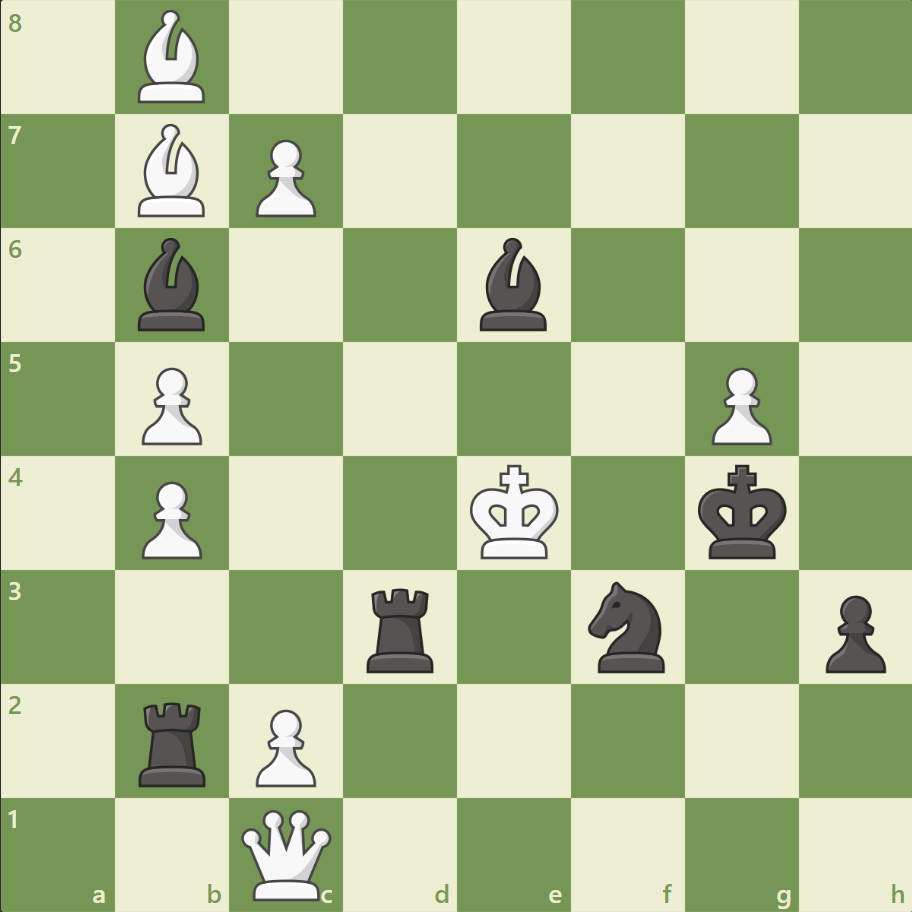B: (131, 6, 215, 109), (131, 120, 215, 222)
K: (465, 458, 565, 566)
P: (247, 132, 322, 223), (133, 359, 208, 450), (701, 359, 776, 450), (133, 473, 208, 564), (247, 700, 322, 791)
Q: (237, 804, 336, 903)
b: (131, 233, 215, 336), (471, 233, 555, 336)
k: (692, 458, 792, 566)
n: (579, 575, 676, 677)
p: (815, 586, 889, 677)
r: (360, 579, 442, 676), (133, 693, 215, 790)
